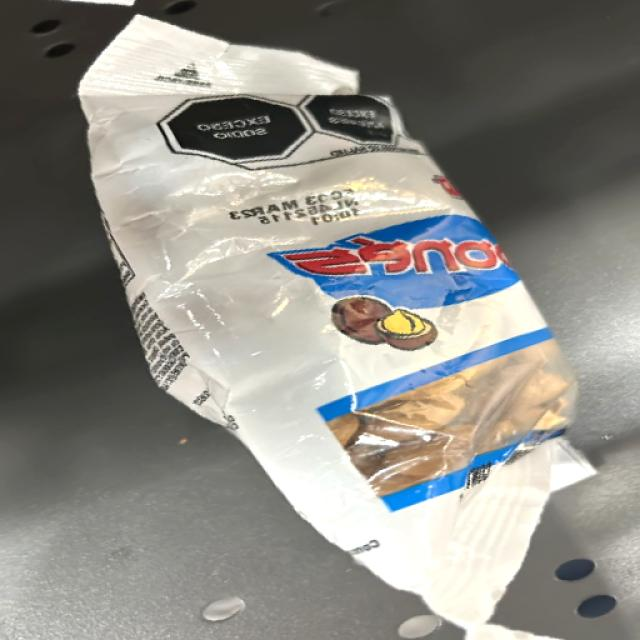leoCacahuates: (261, 62, 555, 566)
